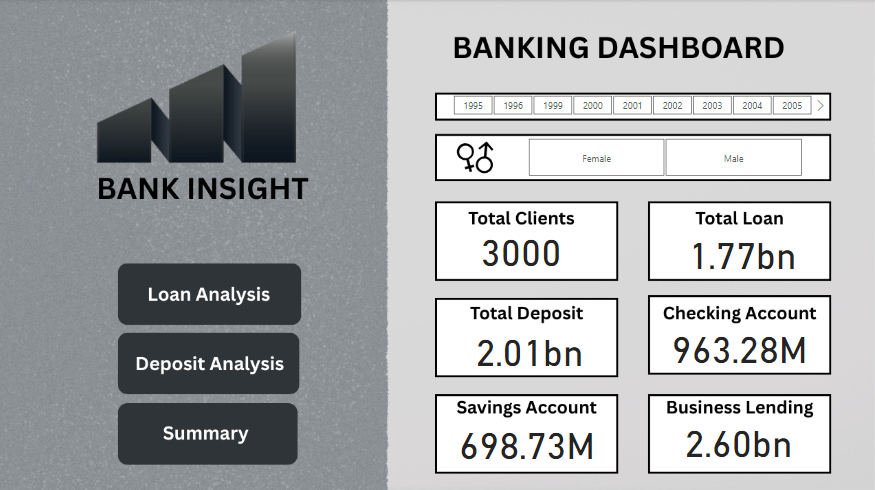

This screenshot's page, from the dashboard's own definition file:
{"tool":"powerbi","page":{"name":"Home2","canvas":[1280,720],"ordinal":1},"visuals":[{"type":"card","fields":{"Values":["CountNonNull(4545c34b-6225-4efc-b2f4-cad1aec.Name)"]},"box":[641.5,324.4,247.3,75.6],"z":0},{"type":"slicer","fields":{"Values":["4545c34b-6225-4efc-b2f4-cad1aec.GenderId"]},"box":[750.5,196.4,446.5,68.4],"z":1000},{"type":"card","fields":{"Values":["Sum(4545c34b-6225-4efc-b2f4-cad1aec.Bank Loans)"]},"box":[971.6,327.9,231.3,80],"z":2000},{"type":"card","fields":{"Values":["Sum(4545c34b-6225-4efc-b2f4-cad1aec.Bank Deposits)"]},"box":[669.1,467.6,216.7,82.9],"z":3000},{"type":"card","fields":{"Values":["Sum(4545c34b-6225-4efc-b2f4-cad1aec.Checking Accounts)"]},"box":[968.7,462.5,228.4,82.9],"z":4000},{"type":"card","fields":{"Values":["Sum(4545c34b-6225-4efc-b2f4-cad1aec.Business Lending)"]},"box":[978.9,590.5,205.1,100.4],"z":5000},{"type":"card","fields":{"Values":["Sum(4545c34b-6225-4efc-b2f4-cad1aec.Saving Accounts)"]},"box":[664.7,602.2,218.2,82.9],"z":6000},{"type":"slicer","fields":{"Values":["4545c34b-6225-4efc-b2f4-cad1aec.Year of Joining"]},"box":[641.5,133.8,570.2,36.4],"z":7000},{"type":"actionButton","box":[181.8,386.9,260.4,80],"z":8000},{"type":"actionButton","box":[181.4,488.3,259.8,78.5],"z":9000},{"type":"actionButton","box":[181.8,590.5,260.4,81.5],"z":10000}]}

Visuals, with their boxes in screenshot pixels (x1, y1, x2, y2), scaled from the page's 1280x720 canvas onto the 875x490 screenshot:
card - CountNonNull(4545c34b-6225-4efc-b2f4-cad1aec.Name): 439, 221, 608, 272
slicer - 4545c34b-6225-4efc-b2f4-cad1aec.GenderId: 513, 134, 818, 180
card - Sum(4545c34b-6225-4efc-b2f4-cad1aec.Bank Loans): 664, 223, 822, 278
card - Sum(4545c34b-6225-4efc-b2f4-cad1aec.Bank Deposits): 457, 318, 606, 375
card - Sum(4545c34b-6225-4efc-b2f4-cad1aec.Checking Accounts): 662, 315, 818, 371
card - Sum(4545c34b-6225-4efc-b2f4-cad1aec.Business Lending): 669, 402, 809, 470
card - Sum(4545c34b-6225-4efc-b2f4-cad1aec.Saving Accounts): 454, 410, 604, 466
slicer - 4545c34b-6225-4efc-b2f4-cad1aec.Year of Joining: 439, 91, 828, 116
actionButton: 124, 263, 302, 318
actionButton: 124, 332, 302, 386
actionButton: 124, 402, 302, 457
